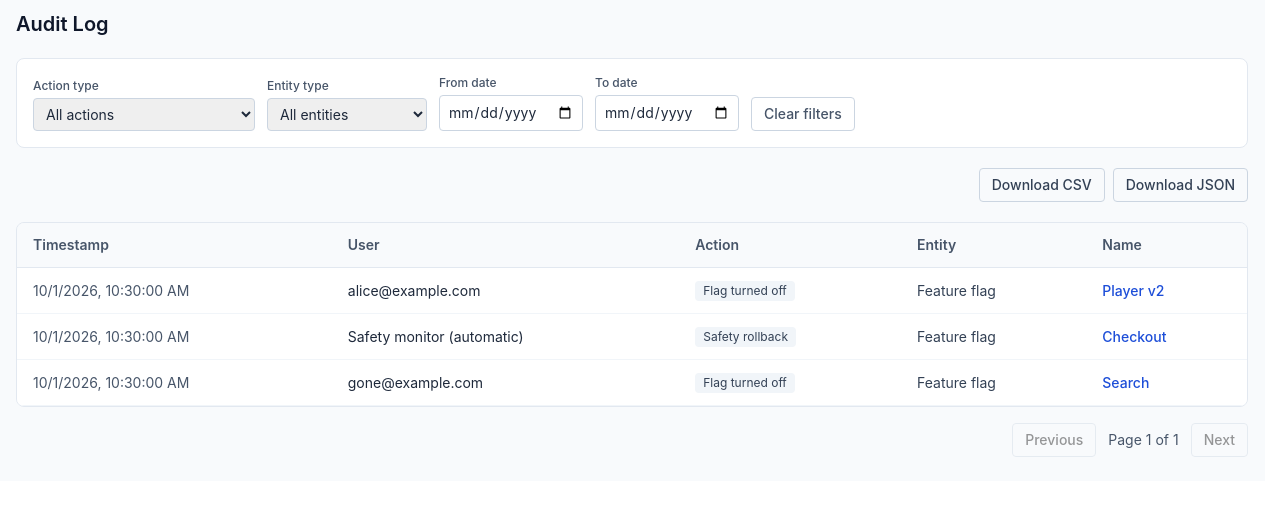
Download CSV and Download JSON (#221) › shows an error and saves nothing when json rows and the count differ
The width and height of the screenshot is (1265, 520).
Check: the row with test id "audit-log-row-log-1" is shown, box [17,268,1247,314]
Click the button with test id "audit-download-json". click: (1180, 185)
box: [1113,168,1248,202]
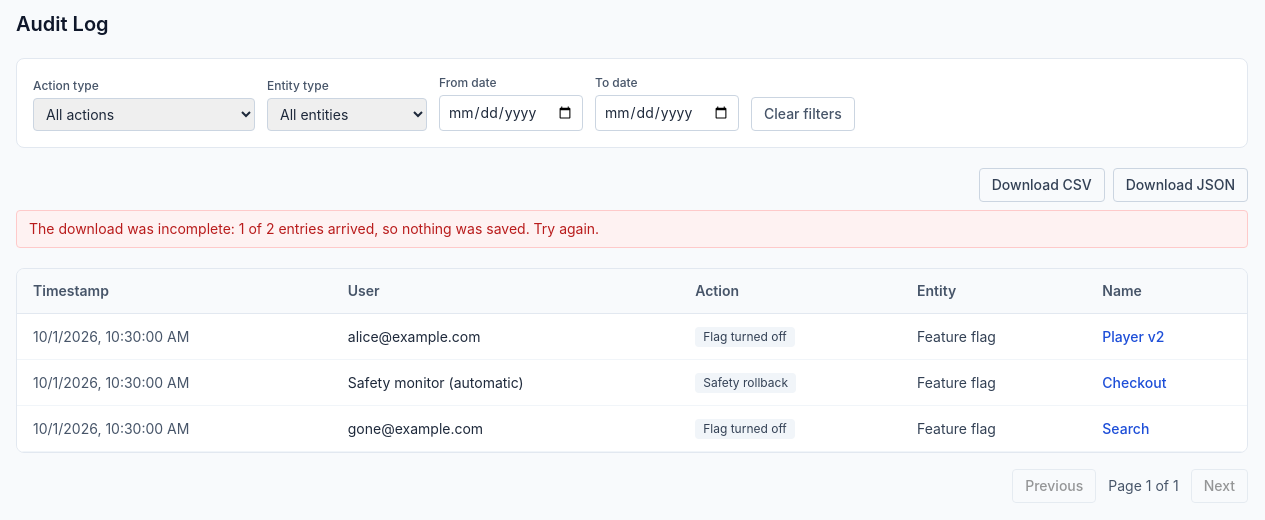
Check: the message shows "The download was incomplete: 1 of 2 entries arrived", box [29,220,599,237]
